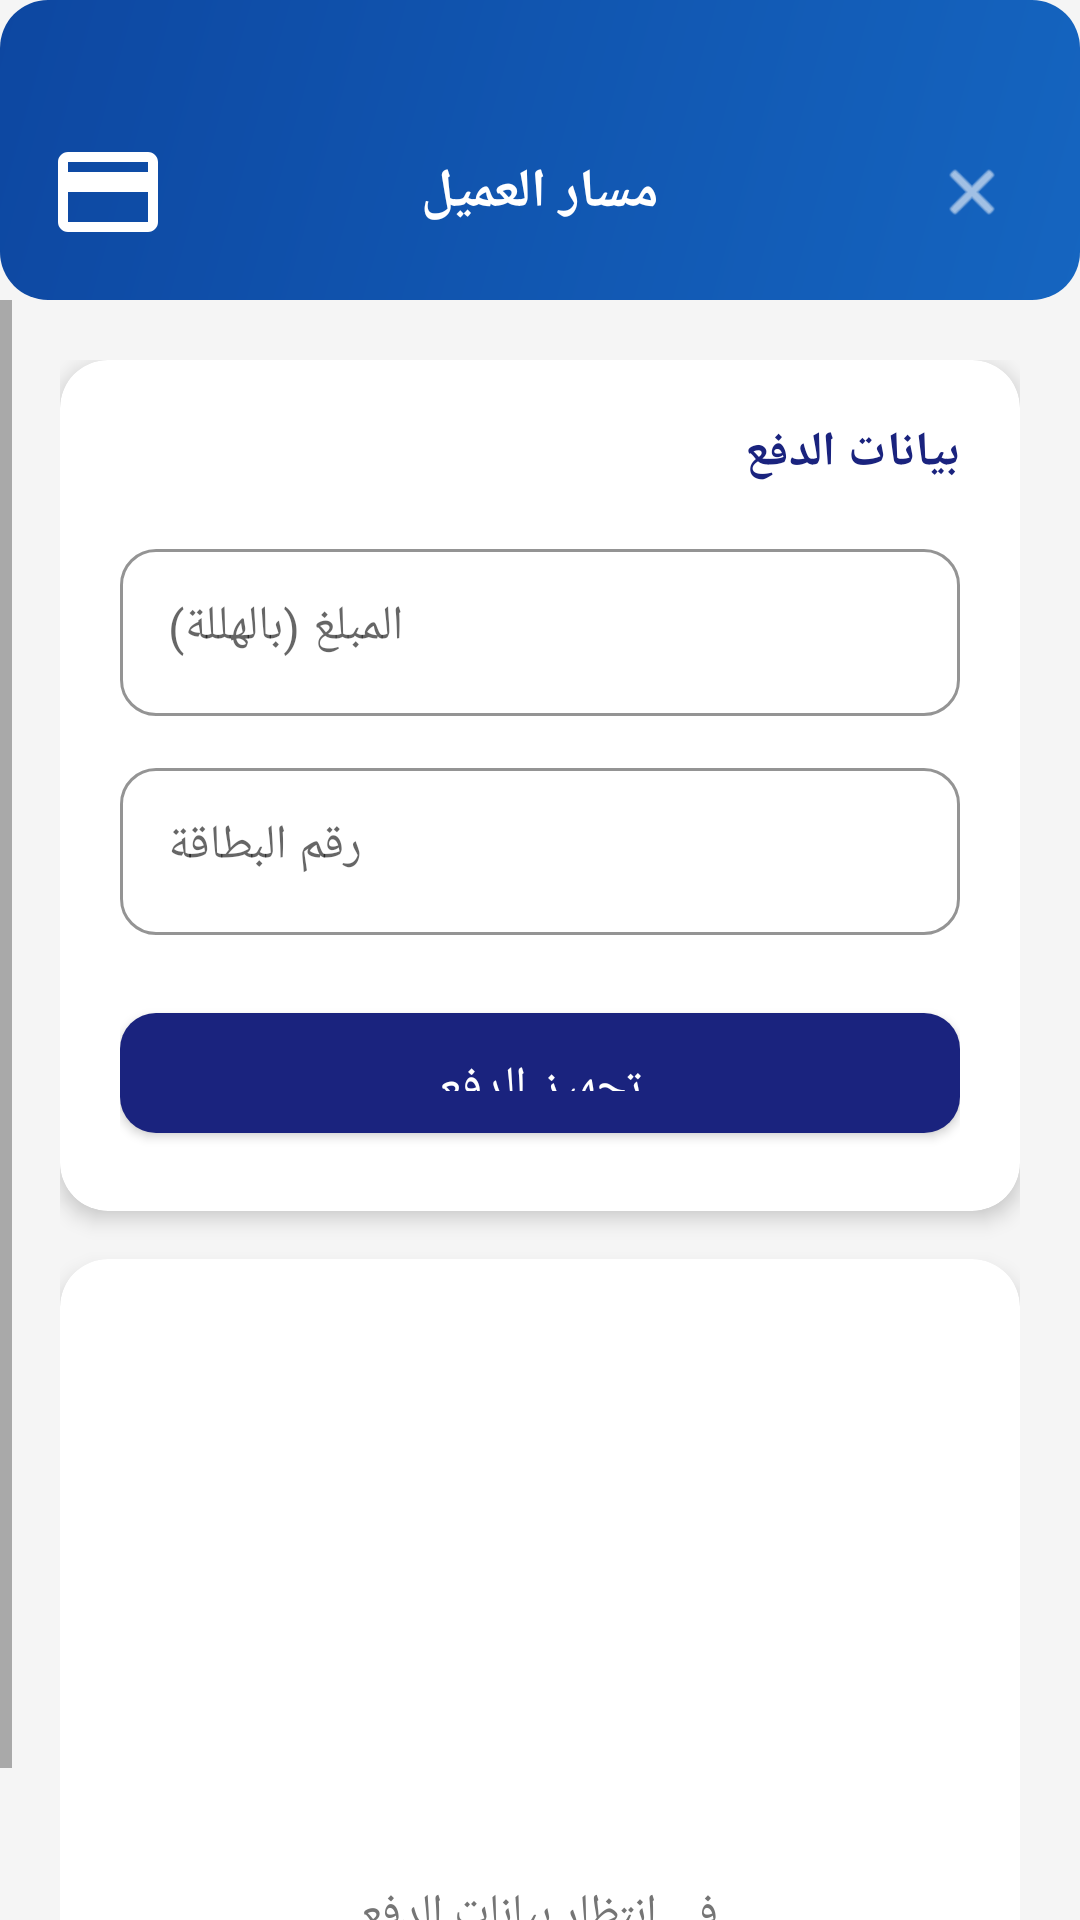

Named icons in this screenshot (1080*1920) and their centers, point (x, y):
credit card: point (108, 192)
